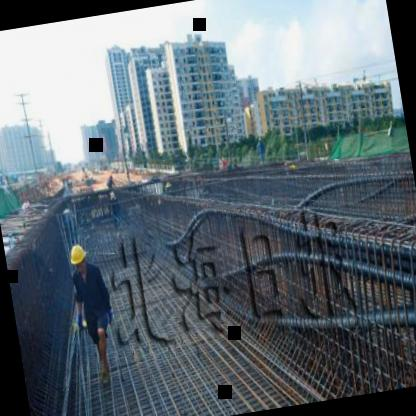helmet: (64, 240, 92, 276)
